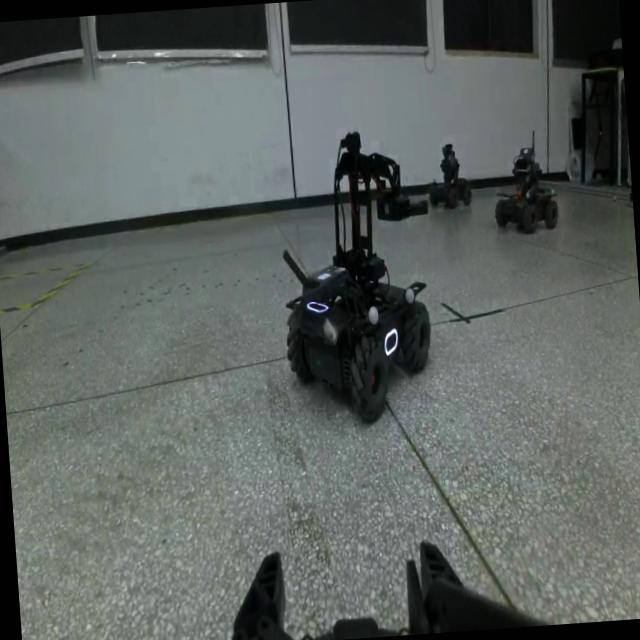ep: (266, 123, 447, 431)
s1: (489, 131, 564, 236), (420, 138, 478, 214)
